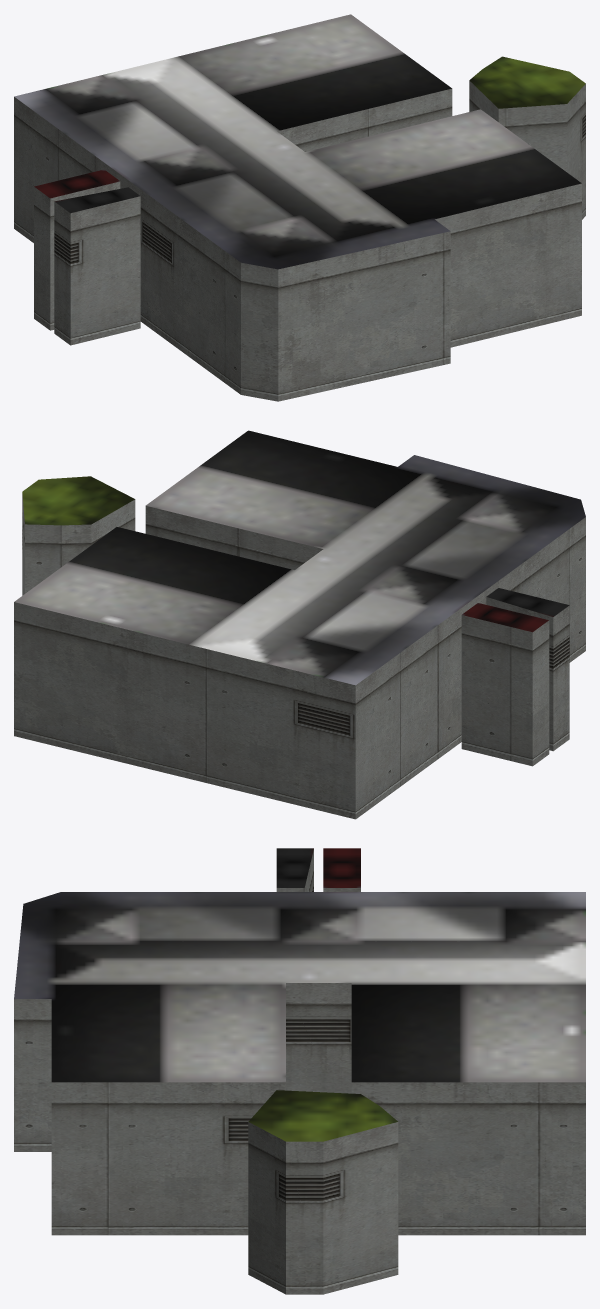
The model's file is BuildingSystem-02-Intermediate-02-Medium-2-35.glb.
3 renders of one model, top to bottom at view 1: azimuth 30°, elevation 25°; view 2: azimuth 150°, elevation 25°; view 3: azimuth 270°, elevation 25°, orthographic. The views are drawn at different scales.
Visible parts, largest first — view 1: buildings/saxarba/SMV_Buildings/BuildingSystem-02-Intermedia; view 2: buildings/saxarba/SMV_Buildings/BuildingSystem-02-Intermedia; view 3: buildings/saxarba/SMV_Buildings/BuildingSystem-02-Intermedia.
Boxes of the visible parts, x1,y1,x2,y2 form: buildings/saxarba/SMV_Buildings/BuildingSystem-02-Intermedia: [14, 14, 585, 401]; buildings/saxarba/SMV_Buildings/BuildingSystem-02-Intermedia: [14, 430, 585, 819]; buildings/saxarba/SMV_Buildings/BuildingSystem-02-Intermedia: [14, 848, 585, 1294].
Bounding box in the file's own units: 74 × 18 × 61.
